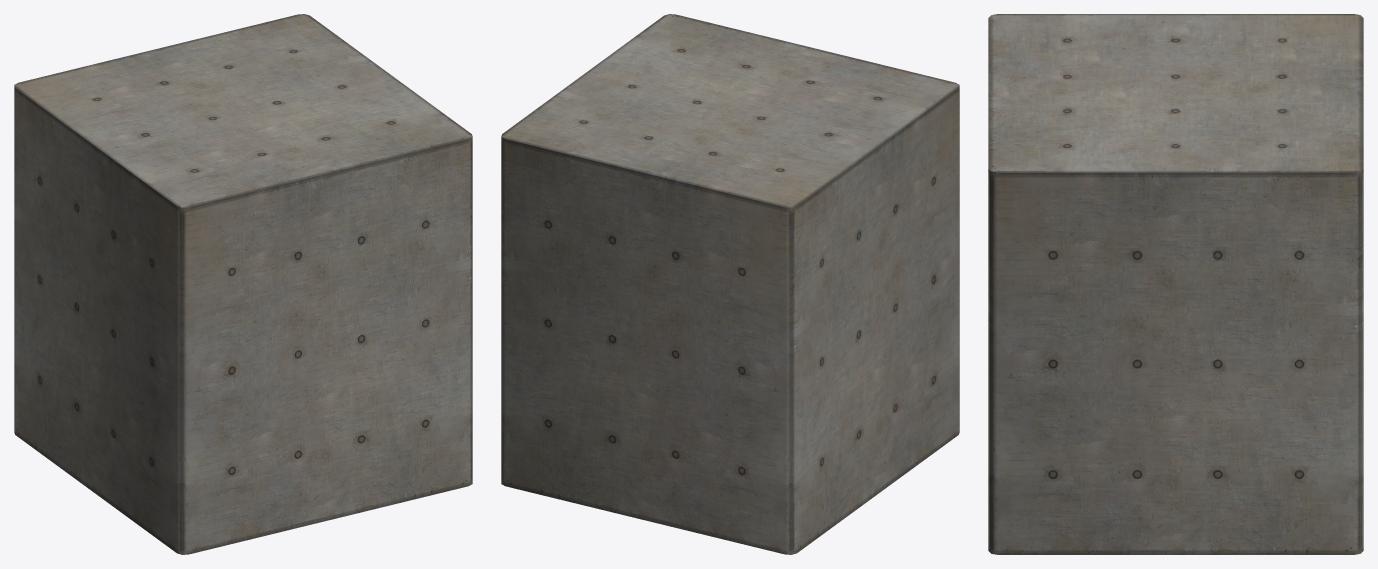
The model's file is concreteBlock01.dae.
3 renders of one model, left to right at view 1: azimuth 30°, elevation 25°; view 2: azimuth 150°, elevation 25°; view 3: azimuth 270°, elevation 25°, orthographic. The views are drawn at different scales.
Parts seen in each view (by area): view 1: pCube1; view 2: pCube1; view 3: pCube1.
Part boxes in pixels (bbox=[...]): pCube1: bbox=[14, 14, 472, 554]; pCube1: bbox=[501, 14, 959, 554]; pCube1: bbox=[988, 14, 1363, 554].
Bounding box in the file's own units: 4 × 4.5 × 4.
Materials: 1 (1 with a texture image).
